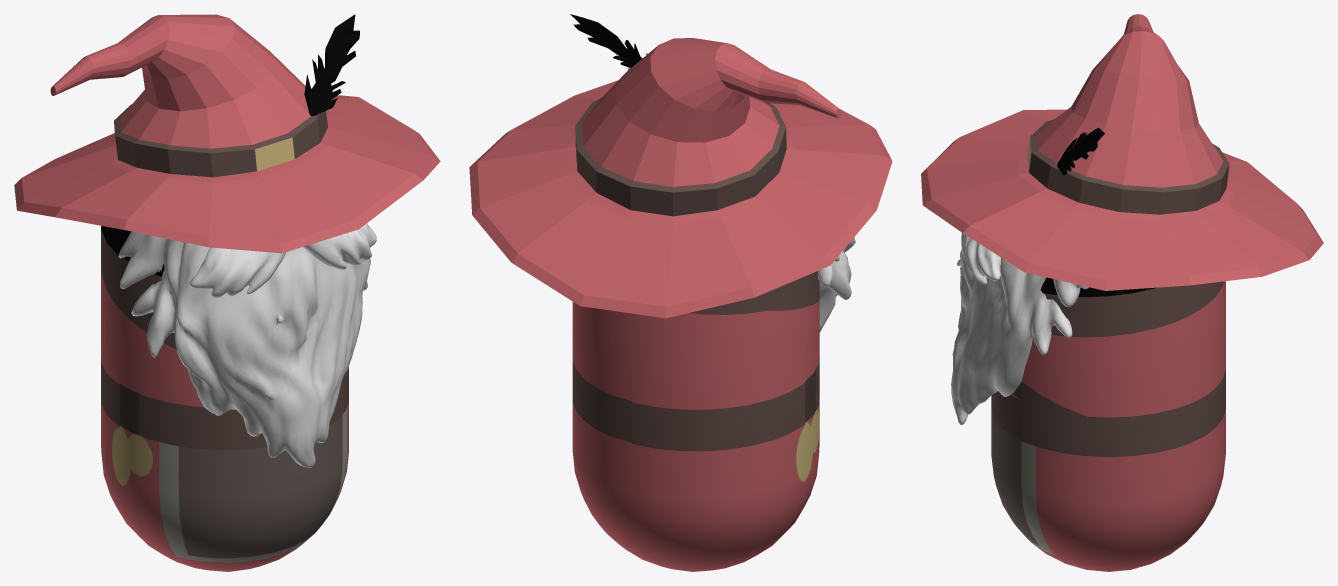
File: RedCharacter.fbx
The picture shows the model from 3 angles, left to right: view 1: azimuth 30°, elevation 25°; view 2: azimuth 150°, elevation 25°; view 3: azimuth 270°, elevation 25°; orthographic projection. The views are drawn at different scales.
Parts seen in each view (by area): view 1: Sombrero, personaje, 000_Sphere.003_Mustache_0.001; view 2: Sombrero, personaje, 000_Sphere.003_Mustache_0.001; view 3: Sombrero, personaje, 000_Sphere.003_Mustache_0.001.
Boxes of the visible parts, x1,y1,x2,y2 form: Sombrero: (14, 14, 440, 253); personaje: (101, 226, 348, 571); 000_Sphere.003_Mustache_0.001: (118, 223, 376, 467); Sombrero: (469, 14, 892, 318); personaje: (572, 271, 819, 571); 000_Sphere.003_Mustache_0.001: (817, 237, 855, 332); Sombrero: (921, 14, 1323, 290); personaje: (991, 277, 1225, 571); 000_Sphere.003_Mustache_0.001: (951, 232, 1088, 424).
Bounding box in the file's own units: 171 × 240 × 172.
